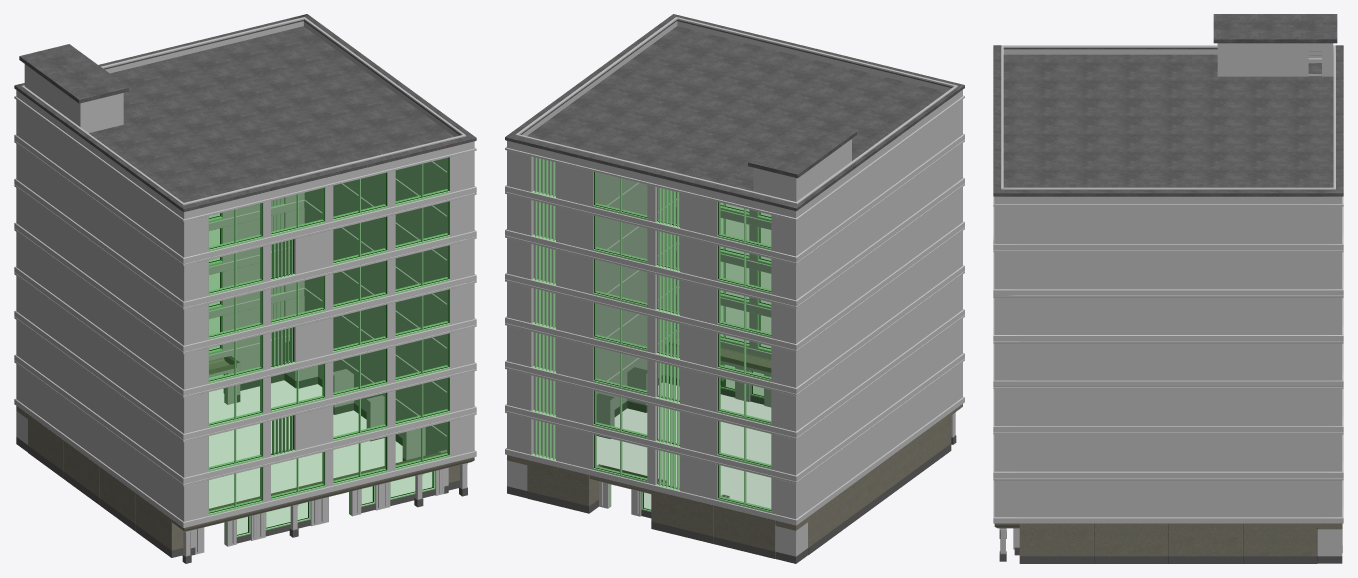
File: SM_Building11_V3.fbx
The picture shows the model from 3 angles, left to right: view 1: azimuth 30°, elevation 25°; view 2: azimuth 150°, elevation 25°; view 3: azimuth 270°, elevation 25°; orthographic projection. The views are drawn at different scales.
Visible parts, largest first — view 1: SM_Building11_V3; view 2: SM_Building11_V3; view 3: SM_Building11_V3.
Boxes of the visible parts, x1,y1,x2,y2 form: SM_Building11_V3: [14, 14, 476, 563]; SM_Building11_V3: [505, 14, 964, 563]; SM_Building11_V3: [993, 14, 1343, 563].
Size of the model in its own units: 2823 by 3584 by 2823.
